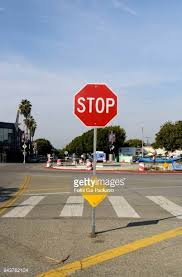Stop: (73, 81, 123, 133)
